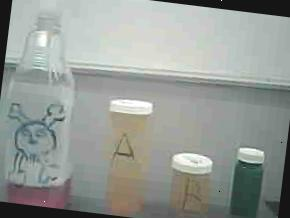Bottle A: (88, 92, 165, 218)
Bottle B: (160, 149, 220, 218)
Bottle C: (227, 144, 269, 218)
hazard: (0, 0, 94, 208)
